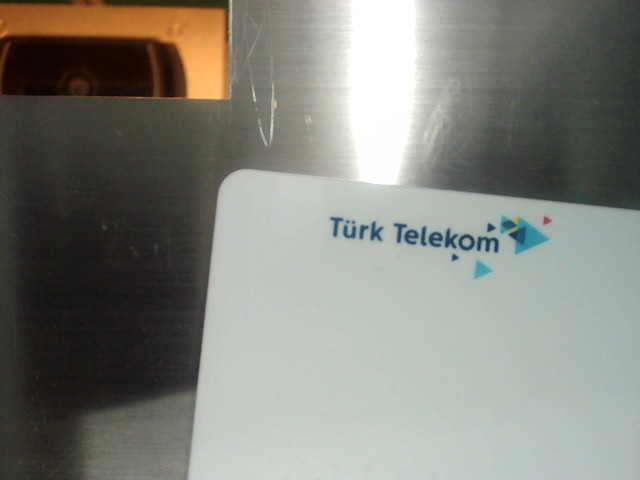AQ_TURKTelekom: (327, 190, 557, 288)
